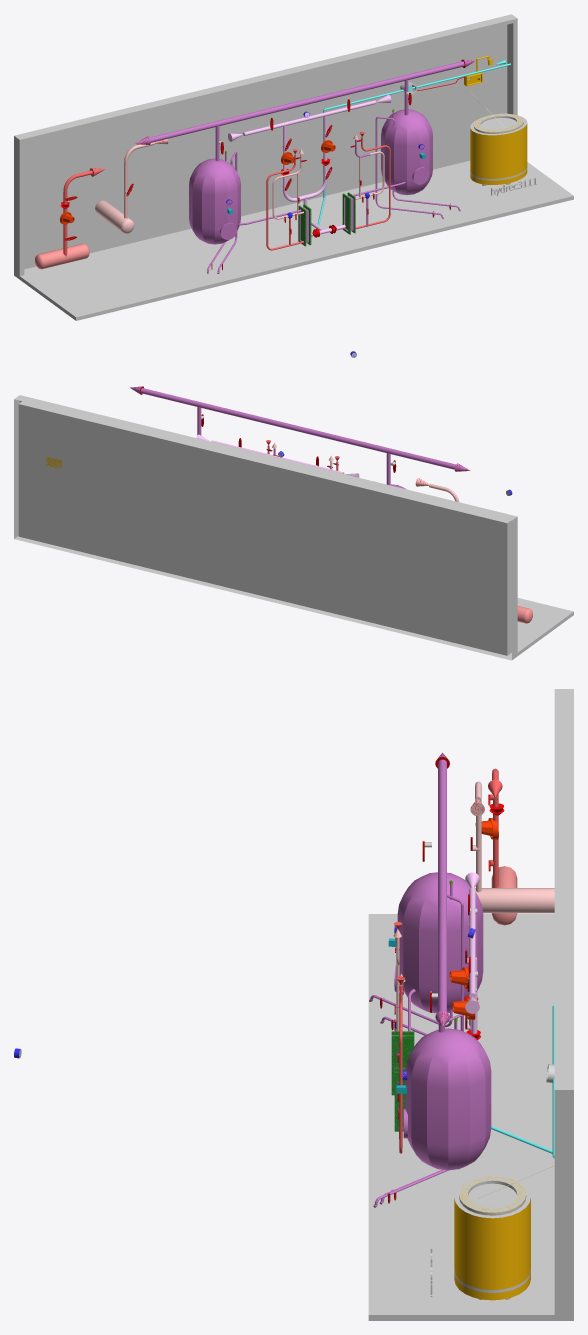
File: pek03.dae
3 renders of one model, top to bottom at view 1: azimuth 30°, elevation 25°; view 2: azimuth 150°, elevation 25°; view 3: azimuth 270°, elevation 25°, orthographic. The views are drawn at different scales.
Parts seen in each view (by area): view 1: group_30 (×3), capsule (×4), group_7 (×2), group_32; view 2: group_30, group_7; view 3: group_30 (×4), capsule (×3), group_7.
Part boxes in pixels (box(x1,y1,x2,y2)): group_30 (×3): box(14, 14, 573, 320); capsule (×4): box(35, 109, 432, 269); group_7 (×2): box(150, 61, 464, 142); group_32: box(324, 63, 510, 110); group_30: box(14, 395, 573, 660); group_7: box(140, 388, 455, 469); group_30 (×4): box(368, 689, 573, 1320); capsule (×3): box(397, 872, 554, 1170); group_7: box(438, 759, 446, 1011).
Bounding box in the file's own units: 701 × 414 × 205.
